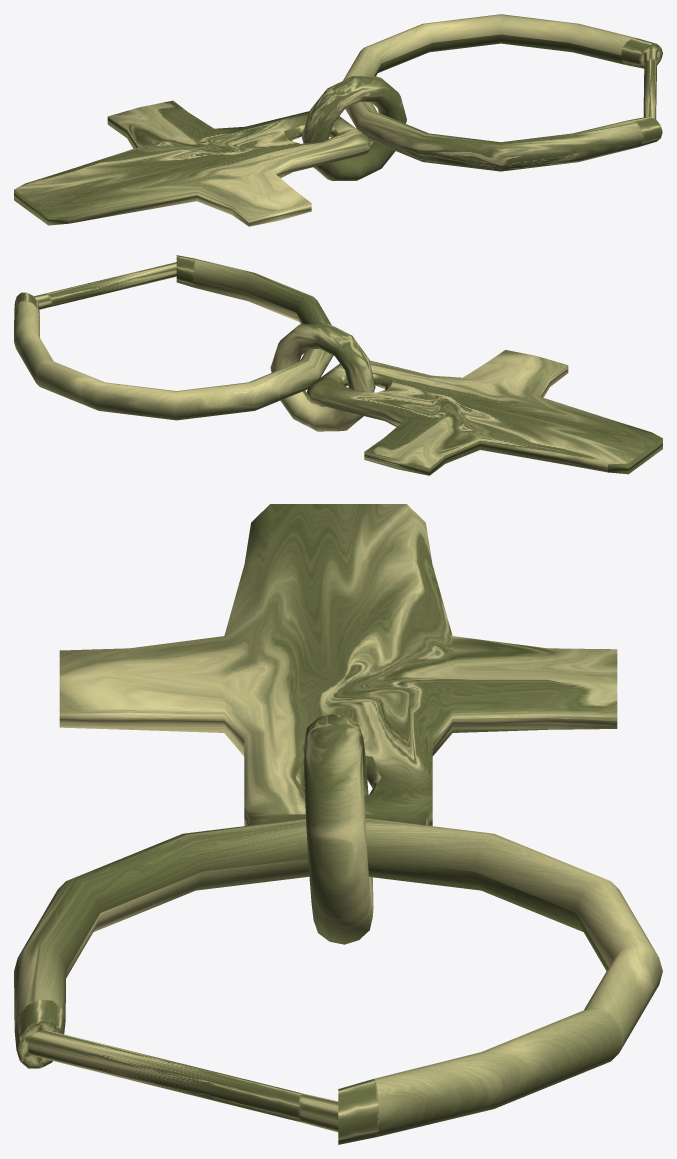
File: brynnearring.fbx
3 views of the same model, one above another, from view 1: azimuth 30°, elevation 25°; view 2: azimuth 150°, elevation 25°; view 3: azimuth 270°, elevation 25° (orthographic). The views are drawn at different scales.
Visible parts, largest first — view 1: cross, Brynn, circle; view 2: cross, Brynn, circle; view 3: cross, Brynn, circle.
Boxes of the visible parts, x1,y1,x2,y2 form: cross: (14,100,370,226); Brynn: (343,14,662,171); circle: (302,76,406,180); cross: (307,350,662,475); Brynn: (14,255,333,420); circle: (270,323,375,431); cross: (59,504,617,825); Brynn: (14,818,662,1144); circle: (303,713,373,944).
Size of the model in its own units: 0.4215 by 0.0667 by 0.1884.
